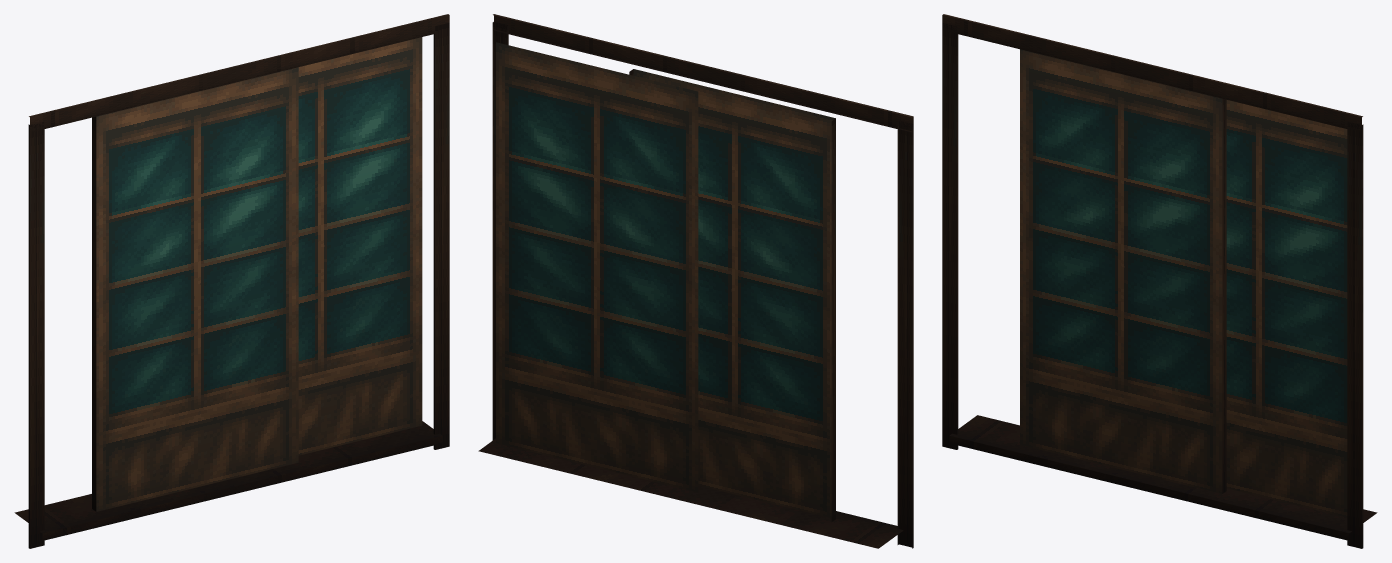
Rendered from prop_sash-16-16-2.glb.
3 views of the same model, side by side, from view 1: azimuth 30°, elevation 25°; view 2: azimuth 150°, elevation 25°; view 3: azimuth 330°, elevation 25° (orthographic).
Visible parts, largest first — view 1: prop_sash-16-16-2; view 2: prop_sash-16-16-2; view 3: prop_sash-16-16-2.
Part boxes in pixels (x1=…): prop_sash-16-16-2: x1=14, y1=14, x2=449, y2=548; prop_sash-16-16-2: x1=478, y1=14, x2=913, y2=548; prop_sash-16-16-2: x1=942, y1=14, x2=1377, y2=548.
Size of the model in its own units: 1.72 by 1.69 by 0.2.
Materials: 2 (2 with a texture image).
